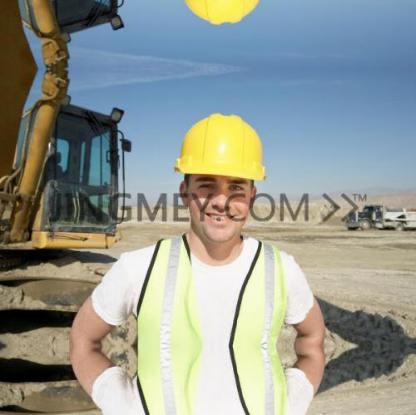Safety Helmet: (173, 108, 270, 245)
